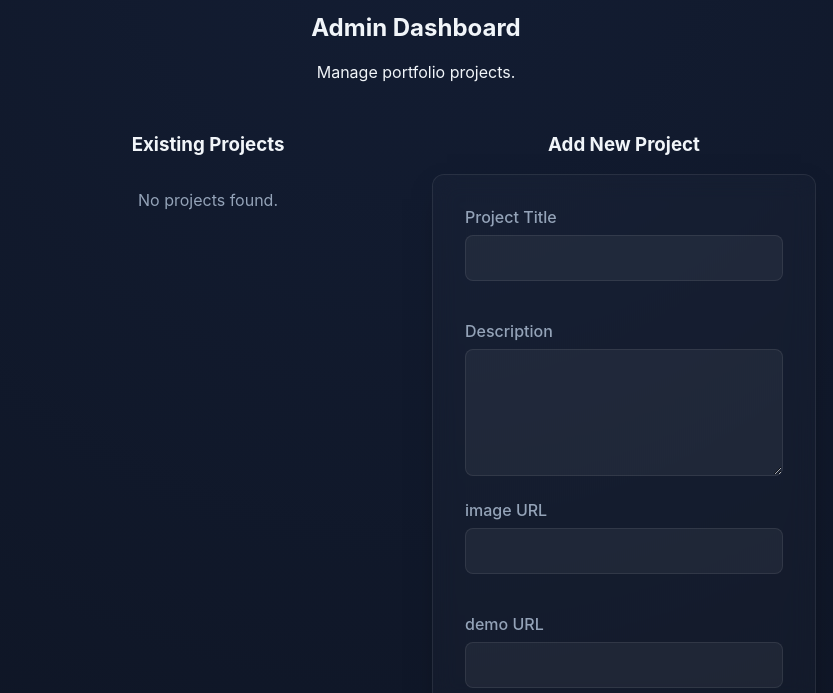
Test case: AdminDashboard › creates a project
Type "New App" into the field labelled "Project Title". click: (624, 258)
box: [465, 235, 783, 281]
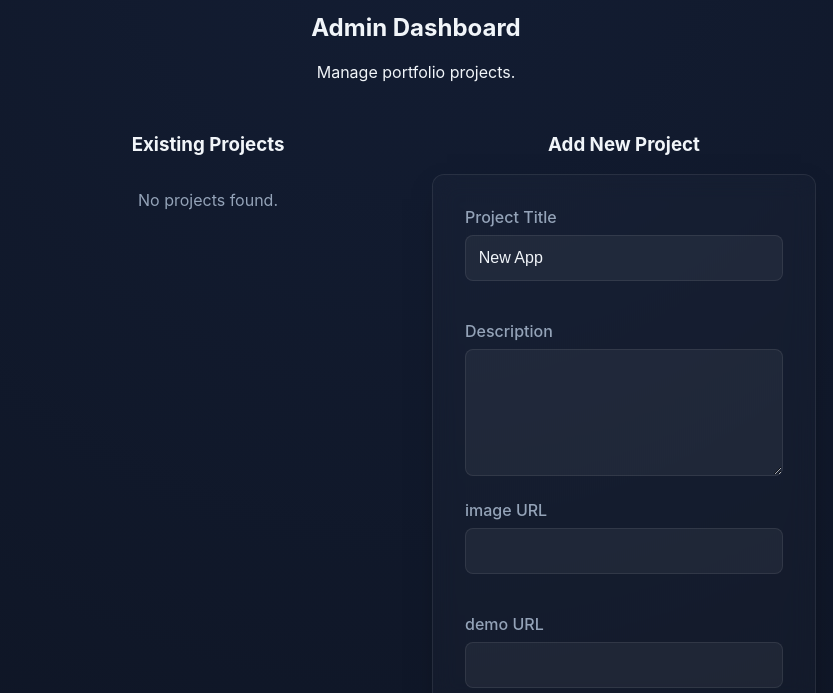
Type "New Desc" into the text box labelled "Description". click: (624, 413)
box: [465, 349, 783, 476]
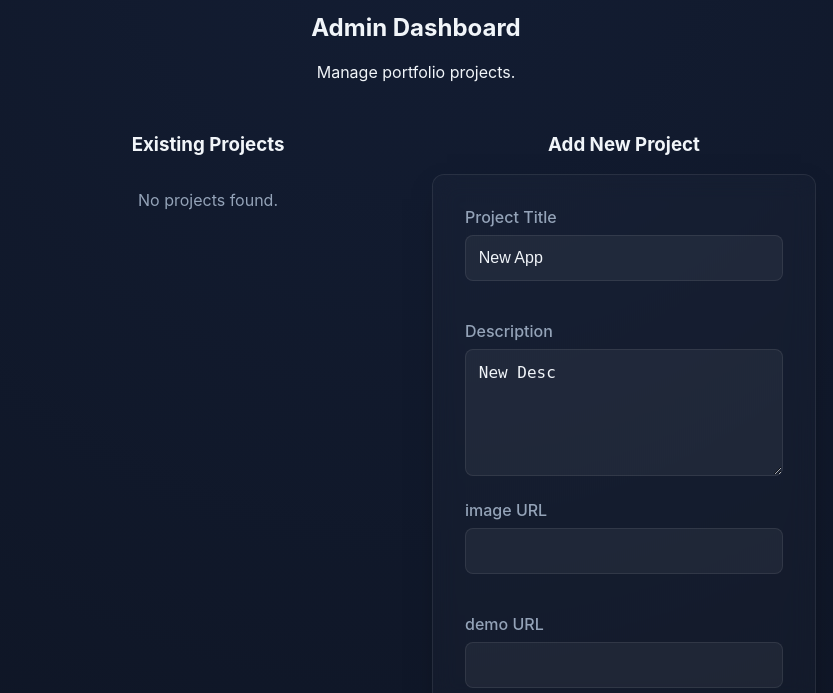
Type "http://img.com" into the field labelled "image URL". click: (624, 551)
box: [465, 528, 783, 574]
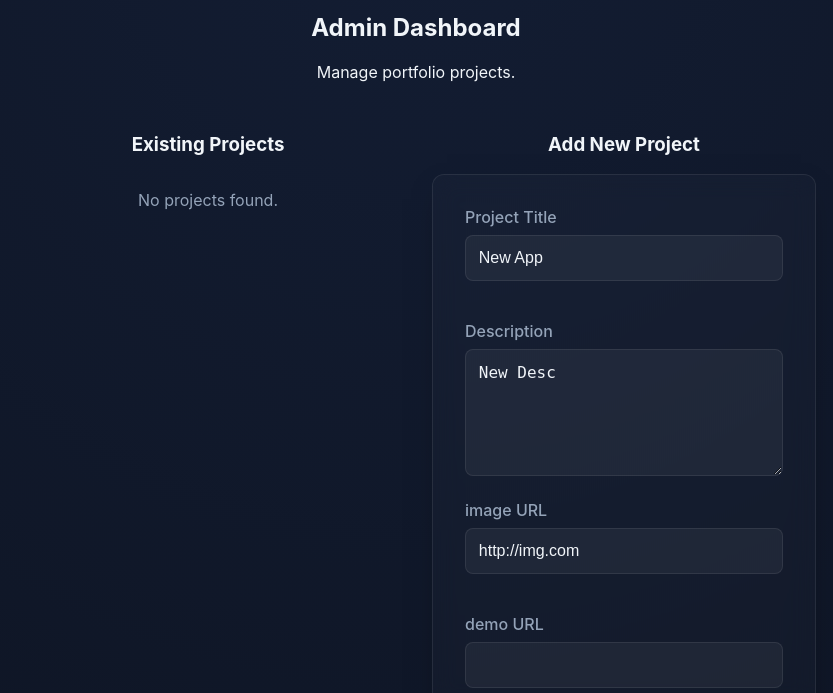
Type "http://demo.com" into the field labelled "demo URL". click: (624, 665)
box: [465, 642, 783, 688]
(page scrolled)
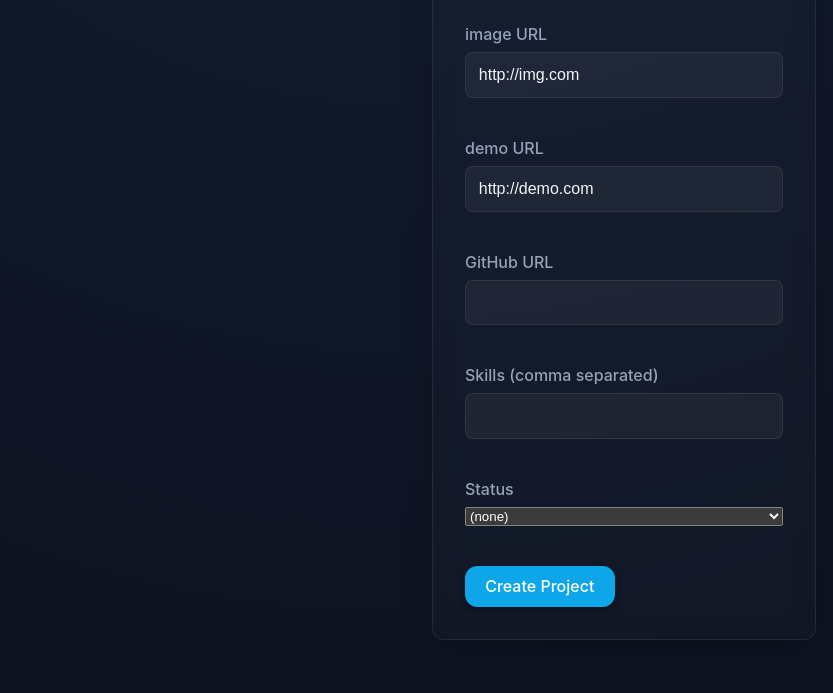
Type "http://git.com" into the field labelled "GitHub URL". click: (624, 302)
box: [465, 280, 783, 325]
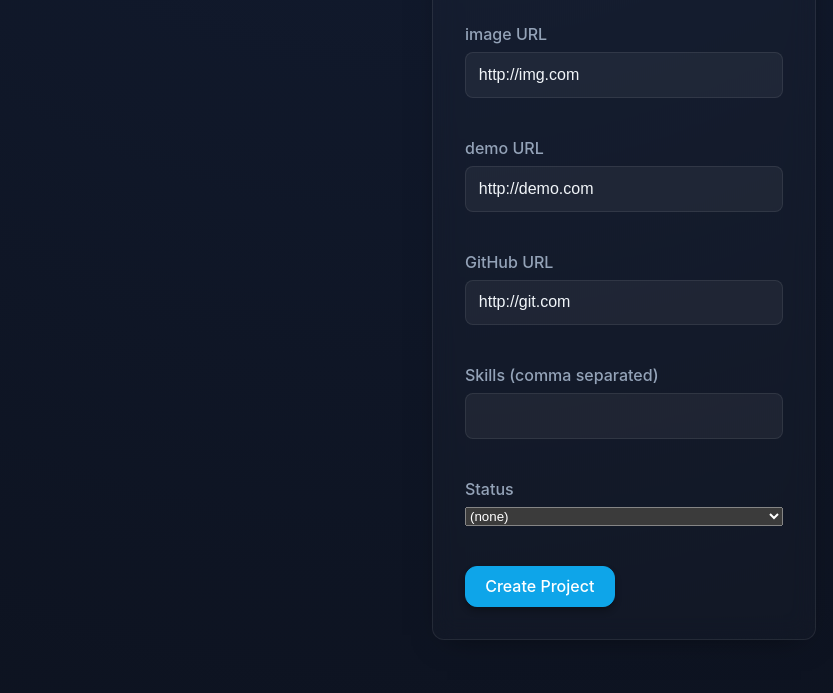
Click the button "Create Project". click: (540, 586)
box: [465, 566, 614, 607]
(page scrolled)
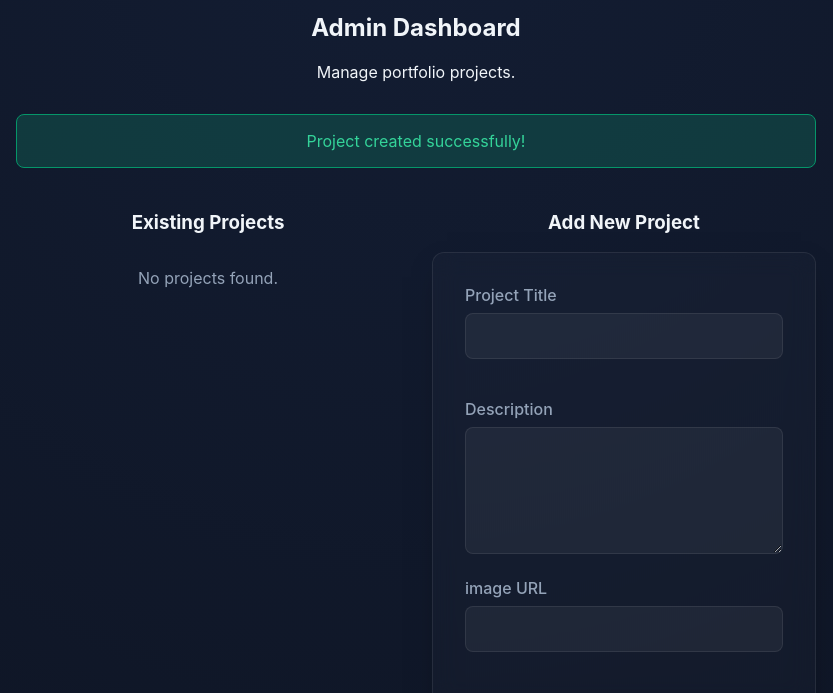
Result: the text "Project created successfully!" is shown at [16, 114, 816, 168]
